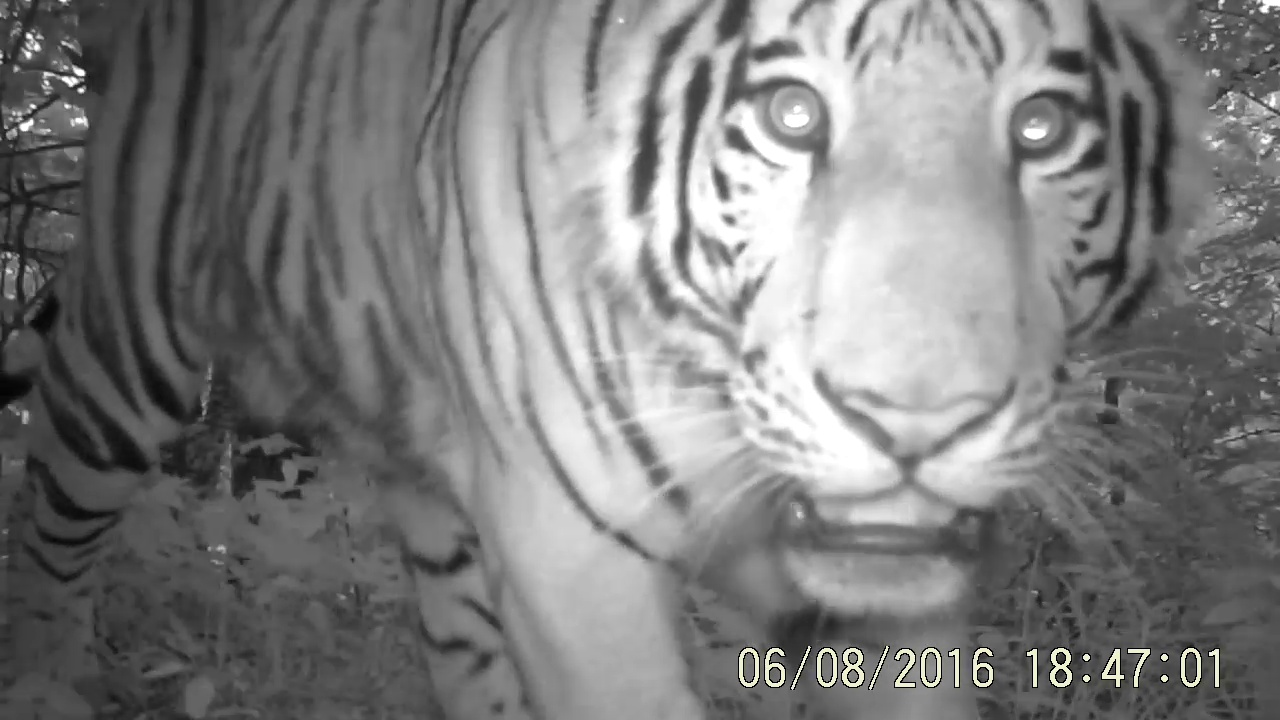Tiger: (6, 2, 1230, 715)
